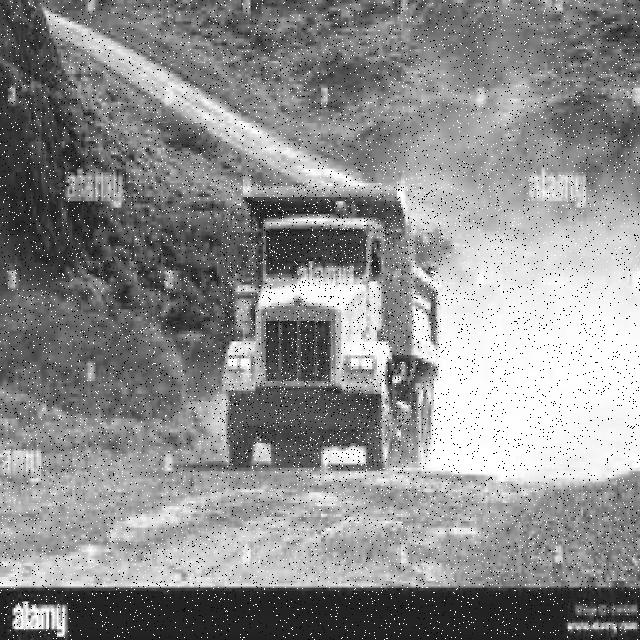Box Truck: (222, 183, 442, 474)
